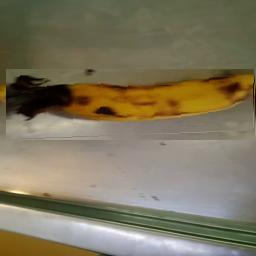Banana Semirotten: (7, 70, 256, 141)
